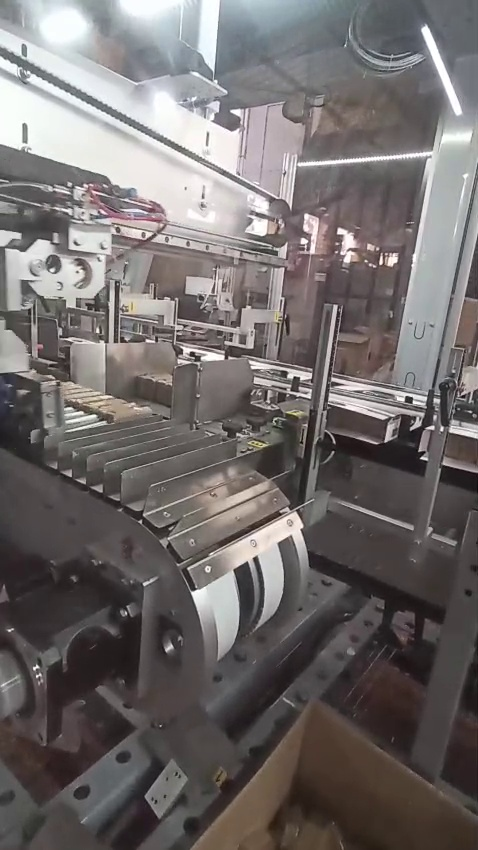savon: (192, 705, 478, 850), (70, 394, 140, 424), (208, 767, 230, 789), (247, 513, 279, 528), (229, 482, 260, 496), (454, 442, 478, 460), (247, 437, 272, 453), (344, 341, 366, 354), (461, 304, 478, 320), (344, 361, 362, 375), (285, 410, 304, 421)
